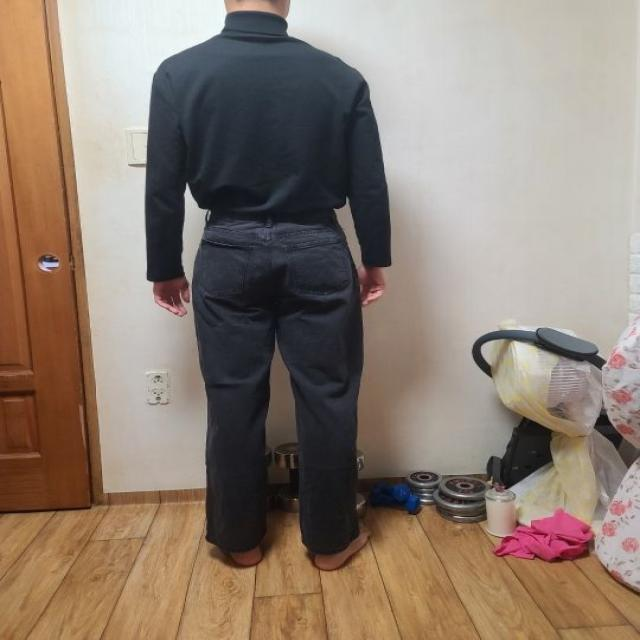denimpants: (193, 205, 359, 551)
longsleeve: (142, 9, 394, 277)
